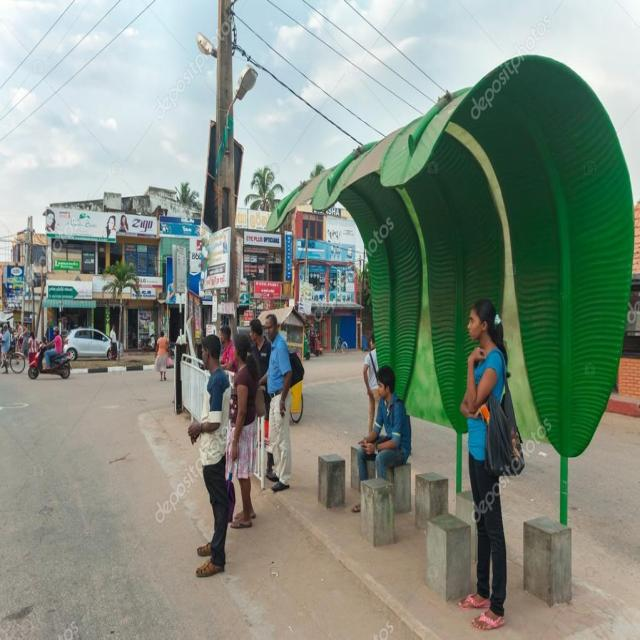body: (454, 294, 526, 632), (186, 331, 232, 580), (222, 330, 274, 532), (350, 363, 413, 513), (258, 312, 306, 494), (44, 206, 135, 242), (248, 317, 272, 422), (362, 332, 382, 436), (152, 329, 173, 384), (218, 324, 241, 374), (41, 324, 63, 370), (282, 324, 302, 366), (0, 322, 11, 373), (27, 330, 39, 366), (109, 324, 118, 361), (20, 322, 29, 357), (17, 320, 24, 353), (130, 321, 137, 348), (0, 324, 4, 362), (148, 332, 156, 351), (303, 326, 308, 354)
